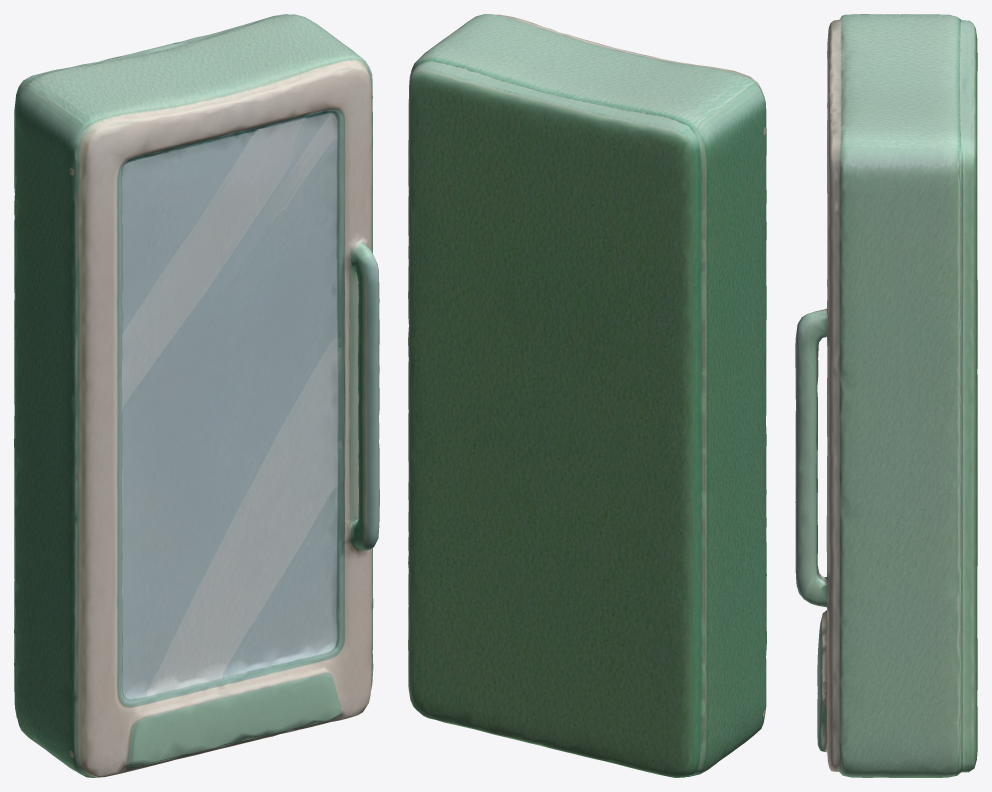
Rendered from P_ShopDoorLarge_h220.fbx.
3 views of the same model, side by side, from view 1: azimuth 30°, elevation 25°; view 2: azimuth 150°, elevation 25°; view 3: azimuth 270°, elevation 25° (orthographic). The views are drawn at different scales.
Visible parts, largest first — view 1: texture_mapping; view 2: texture_mapping; view 3: texture_mapping.
Part boxes in pixels (<box>): texture_mapping: <box>14,14,379,777</box>; texture_mapping: <box>408,14,766,777</box>; texture_mapping: <box>795,14,977,777</box>.
Size of the model in its own units: 0.4738 by 0.2564 by 0.9983.
1 material, 1 textured.
